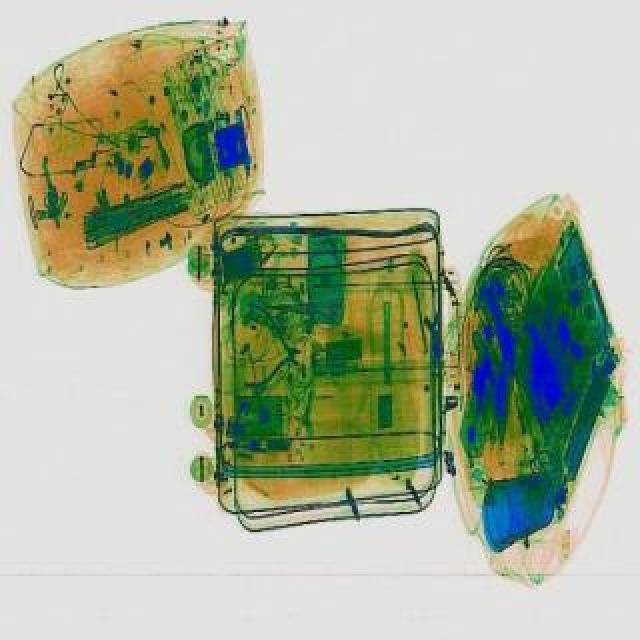wrench: (240, 306, 308, 398)
